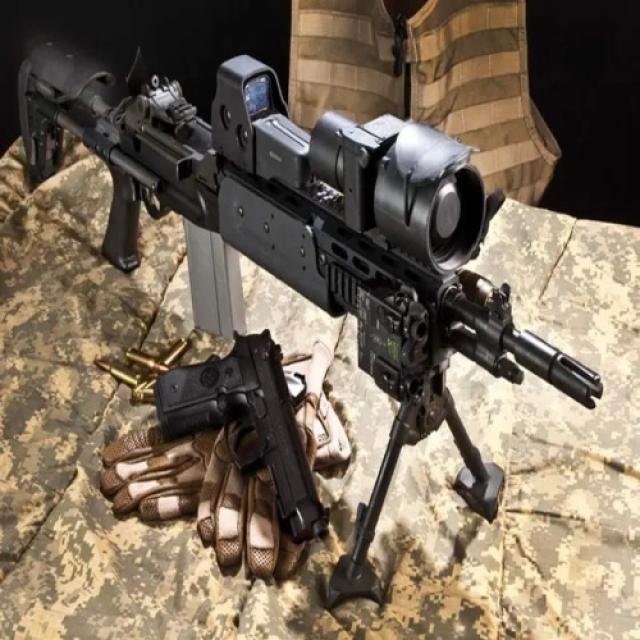Gun: (20, 15, 612, 598)
